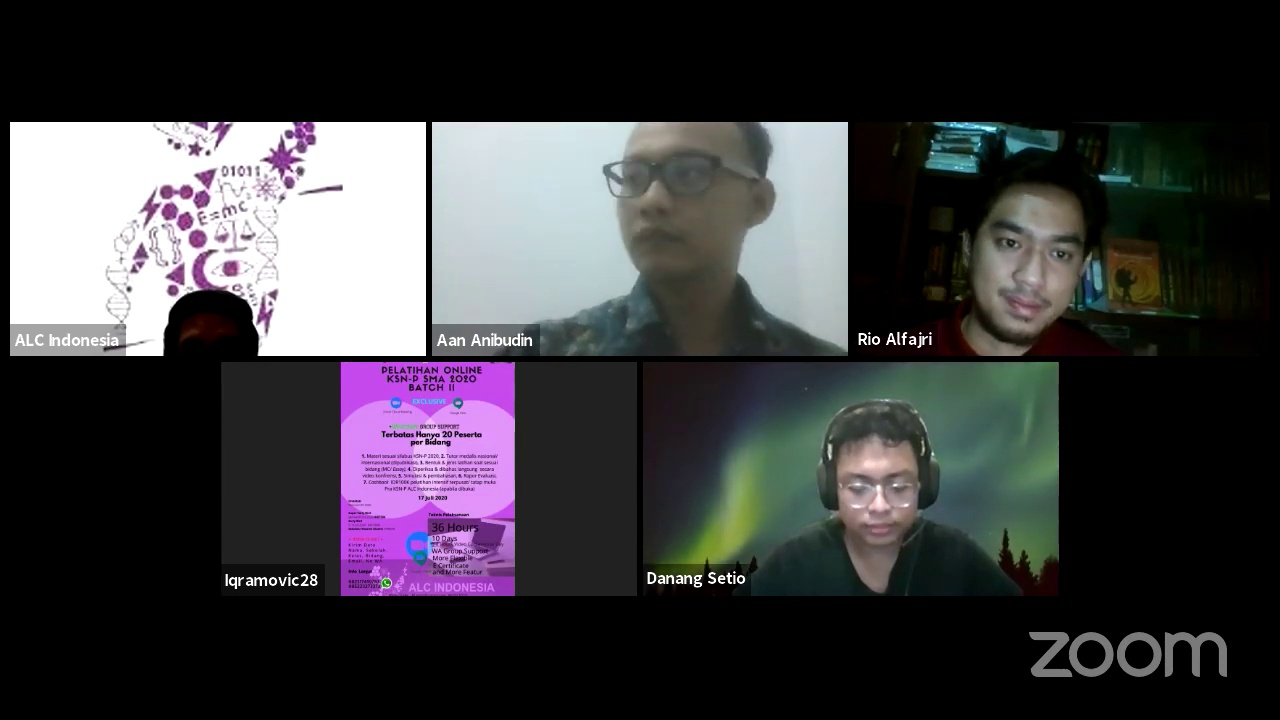Distracted: (593, 132, 789, 273), (803, 430, 975, 548)
Not Distracted: (956, 173, 1106, 347)
